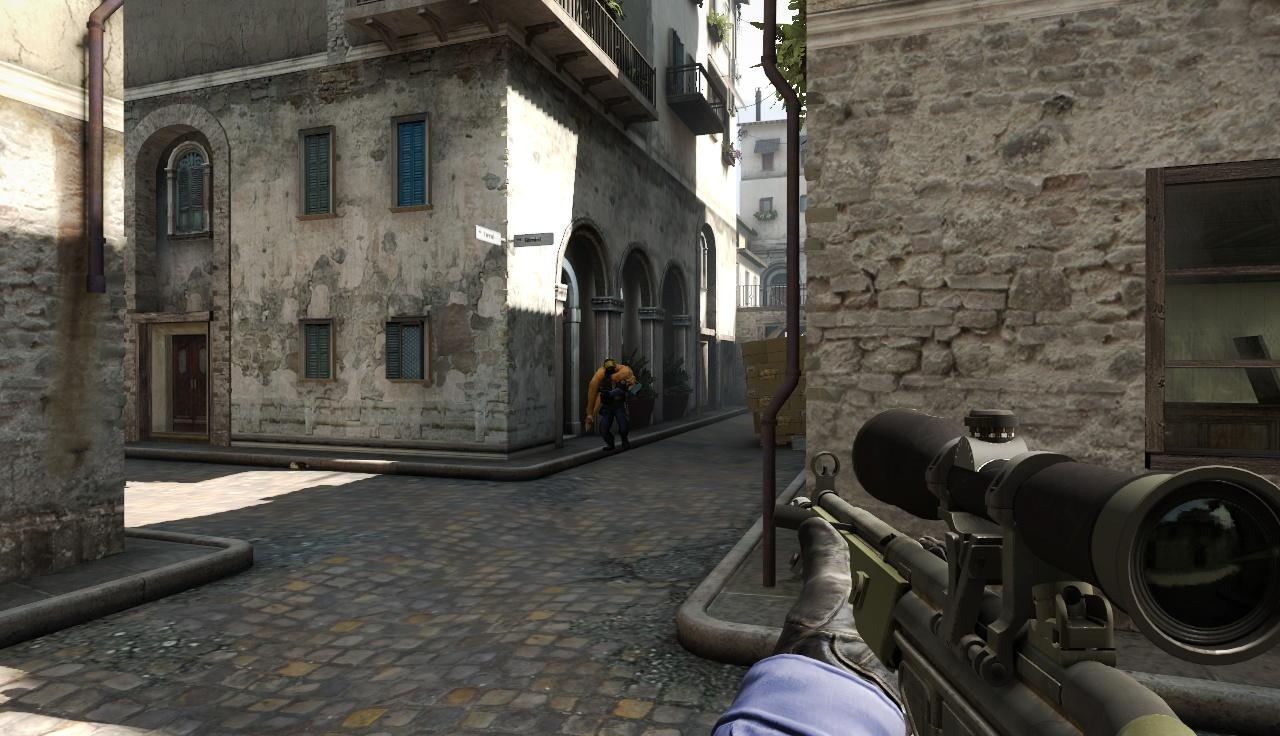ct: (600, 358, 632, 451)
cthead: (603, 359, 616, 374)
sniper: (793, 409, 1280, 736)
